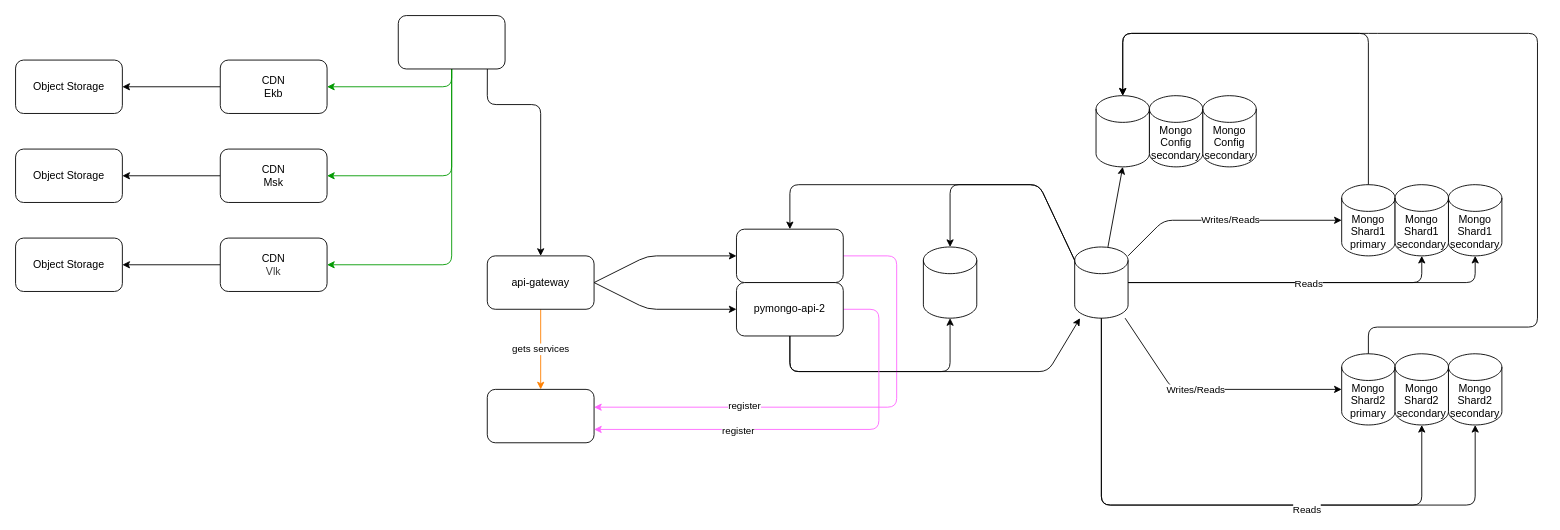
Image size: 1560x530. Some labels were removed from this diagram. The shapes that lost their labels are listed below. From the top down, each one's centre as x and y in pixels, then its label:
the point at 451,42: web-client
the point at 1122,131: Mongo Config primary
the point at 789,255: pymongo-api-1
the point at 949,282: Redis
the point at 1101,282: Mongos Router
the point at 540,415: consul
